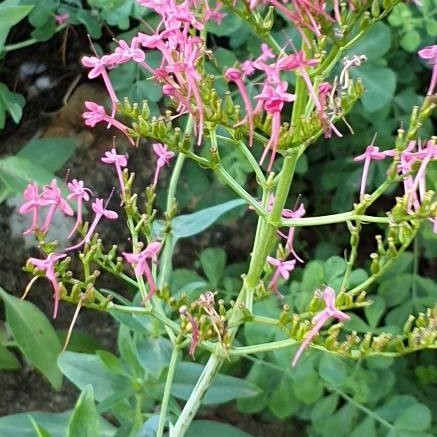obstacle: (83, 28, 413, 399)
